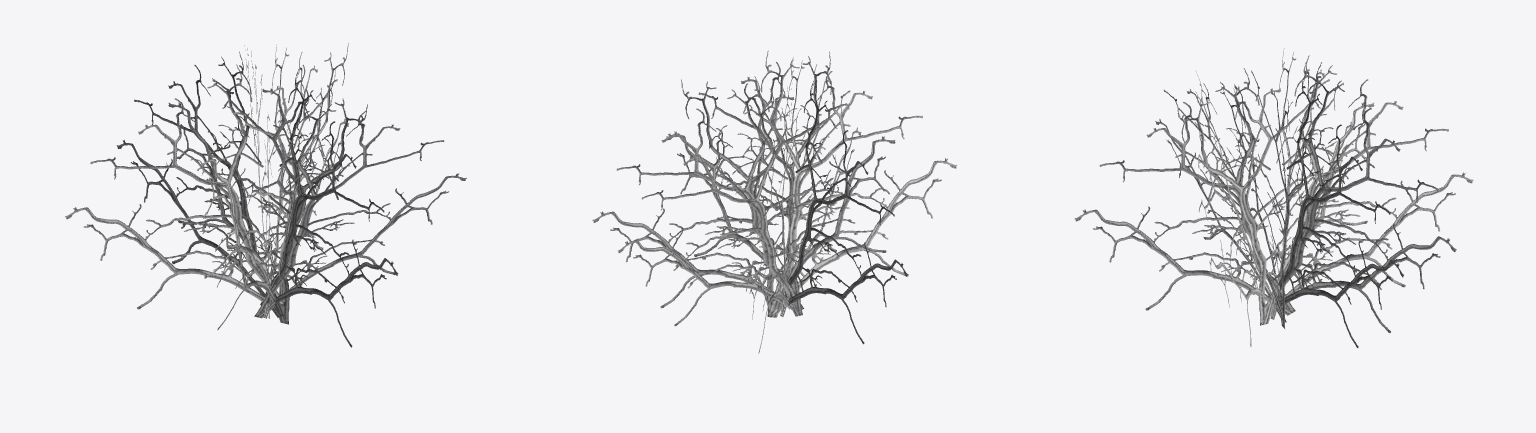
Rendered from winter bush2.FBX.
3 views of the same model, side by side, from view 1: azimuth 30°, elevation 25°; view 2: azimuth 150°, elevation 25°; view 3: azimuth 270°, elevation 25° (orthographic). The views are drawn at different scales.
Parts seen in each view (by area): view 1: winter bush2; view 2: winter bush2; view 3: winter bush2.
Part boxes in pixels (box(x1,y1,x2,y2)): winter bush2: box(65, 43, 466, 347); winter bush2: box(592, 50, 957, 353); winter bush2: box(1074, 48, 1473, 347).
Bounding box in the file's own units: 32.61 × 26.84 × 34.84.
